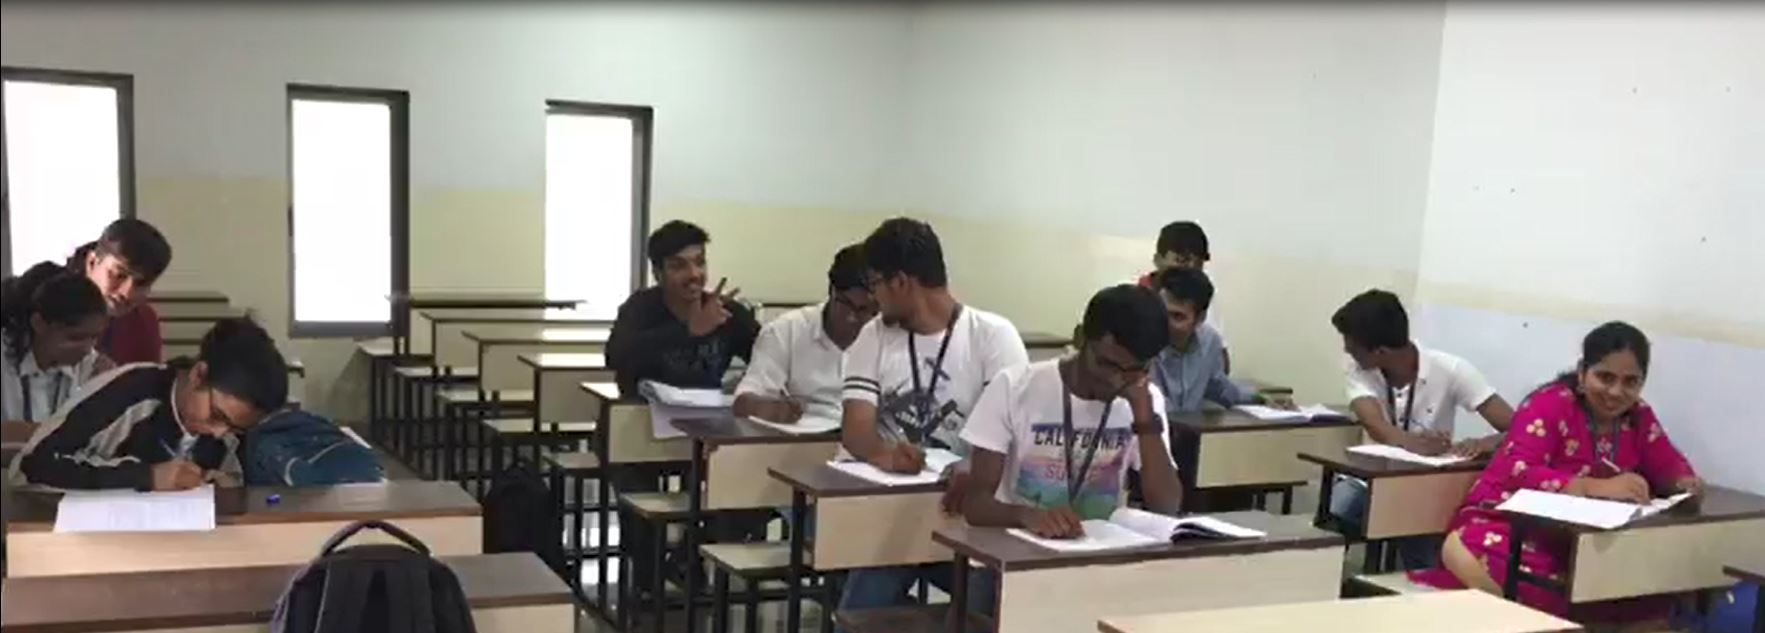chit: (1625, 464, 1697, 531)
gesture: (684, 266, 751, 353)
student: (44, 308, 328, 518), (950, 290, 1174, 549), (746, 241, 890, 448), (1137, 265, 1228, 347), (1152, 226, 1218, 284)
studentcopying: (1287, 267, 1512, 485), (819, 209, 1007, 471), (1455, 329, 1684, 530), (592, 231, 771, 396), (68, 210, 200, 348), (1, 277, 123, 412)
